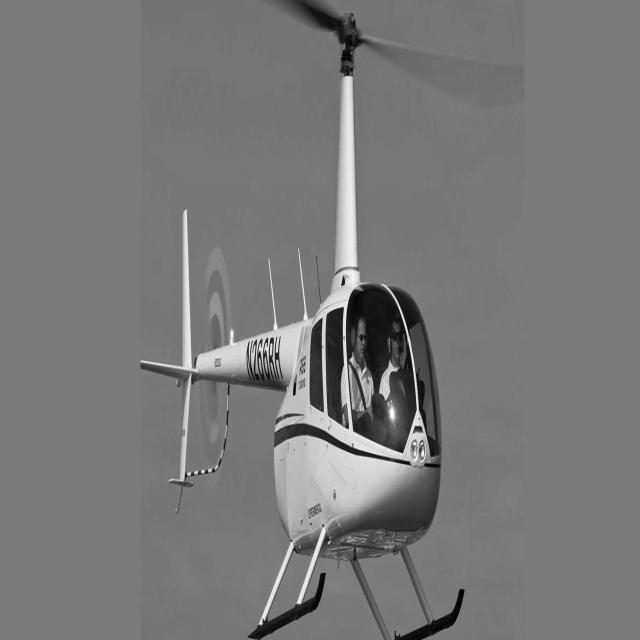helicopter: (135, 1, 513, 640)
